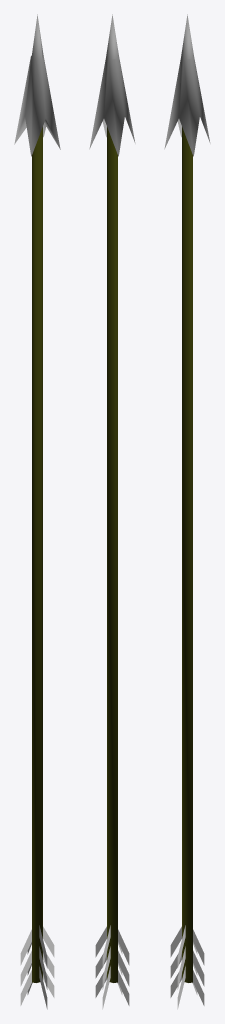
File: Arrow 1.fbx
3 views of the same model, side by side, from view 1: azimuth 30°, elevation 25°; view 2: azimuth 150°, elevation 25°; view 3: azimuth 330°, elevation 25° (orthographic).
Parts seen in each view (by area): view 1: Arrow; view 2: Arrow; view 3: Arrow.
Part boxes in pixels (box(x1,y1,x2,y2)): Arrow: box(14, 14, 60, 1009); Arrow: box(89, 14, 135, 1009); Arrow: box(164, 14, 210, 1009).
Size of the model in its own units: 1.45 by 40.38 by 1.45.
